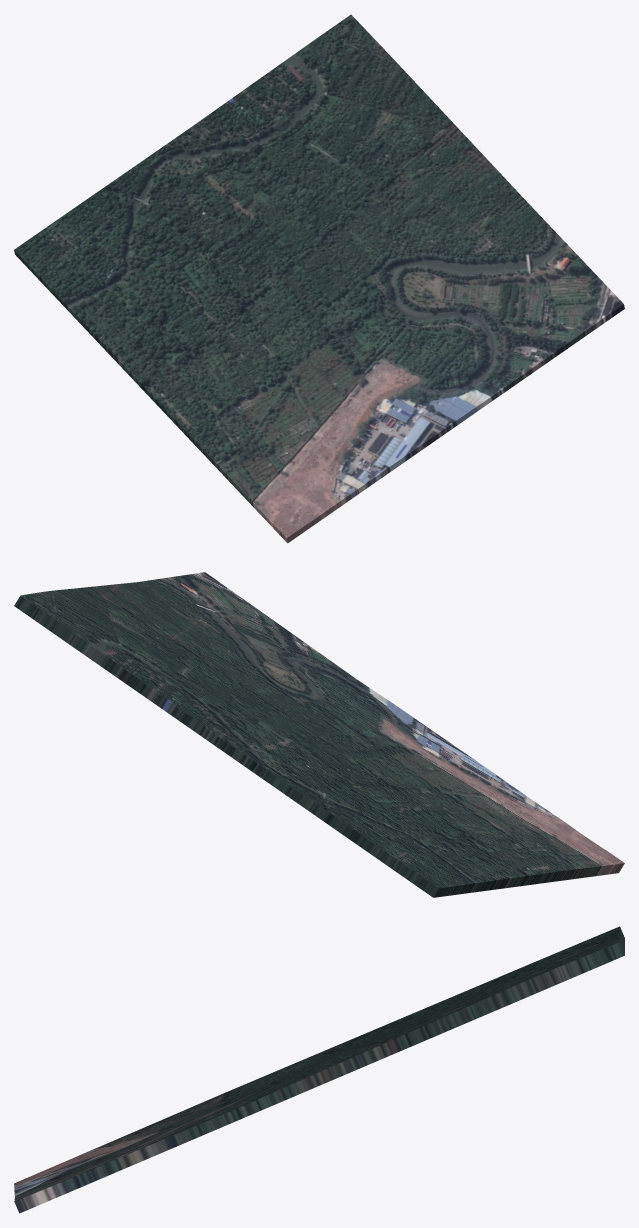
The picture shows the model from 3 angles, top to bottom: view 1: azimuth 30°, elevation 25°; view 2: azimuth 150°, elevation 25°; view 3: azimuth 270°, elevation 25°; orthographic projection. The views are drawn at different scales.
Visible parts, largest first — view 1: 0_18_29; view 2: 0_18_29; view 3: 0_18_29.
Boxes of the visible parts, x1,y1,x2,y2 form: 0_18_29: [14, 14, 624, 543]; 0_18_29: [14, 572, 624, 897]; 0_18_29: [14, 926, 624, 1213].
Bounding box in the file's own units: 596 × 439 × 547.
Materials: 1 (1 with a texture image).
